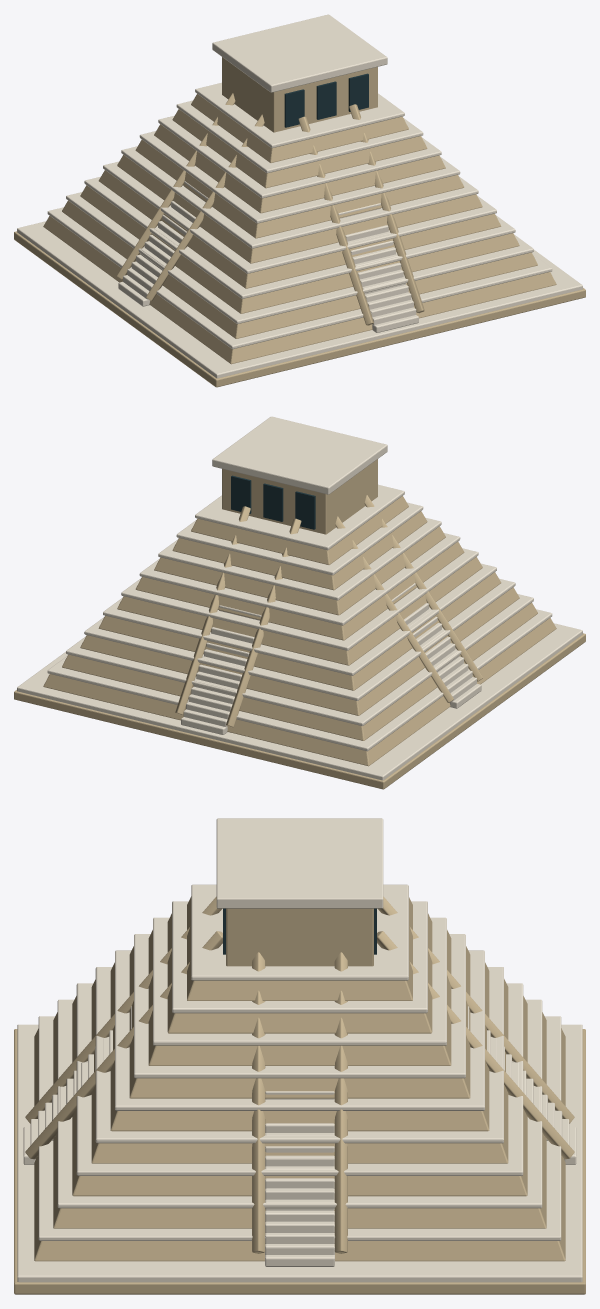
File: chichen_itza.glb
3 renders of one model, top to bottom at view 1: azimuth 30°, elevation 25°; view 2: azimuth 150°, elevation 25°; view 3: azimuth 270°, elevation 25°, orthographic. The views are drawn at different scales.
Visible parts, largest first — view 1: chichen_itza_stone, chichen_itza_ivory, chichen_itza_ink; view 2: chichen_itza_stone, chichen_itza_ivory, chichen_itza_ink; view 3: chichen_itza_ivory, chichen_itza_stone.
Part boxes in pixels (box(x1,y1,x2,y2)): chichen_itza_stone: box(14, 57, 585, 387); chichen_itza_ivory: box(17, 14, 582, 378); chichen_itza_ink: box(284, 73, 368, 127); chichen_itza_stone: box(14, 459, 585, 789); chichen_itza_ivory: box(17, 416, 582, 780); chichen_itza_ink: box(231, 475, 315, 529); chichen_itza_ivory: box(17, 818, 582, 1282); chichen_itza_stone: box(14, 896, 585, 1294).
Bounding box in the file's own units: 7.6 × 4.29 × 7.2.
